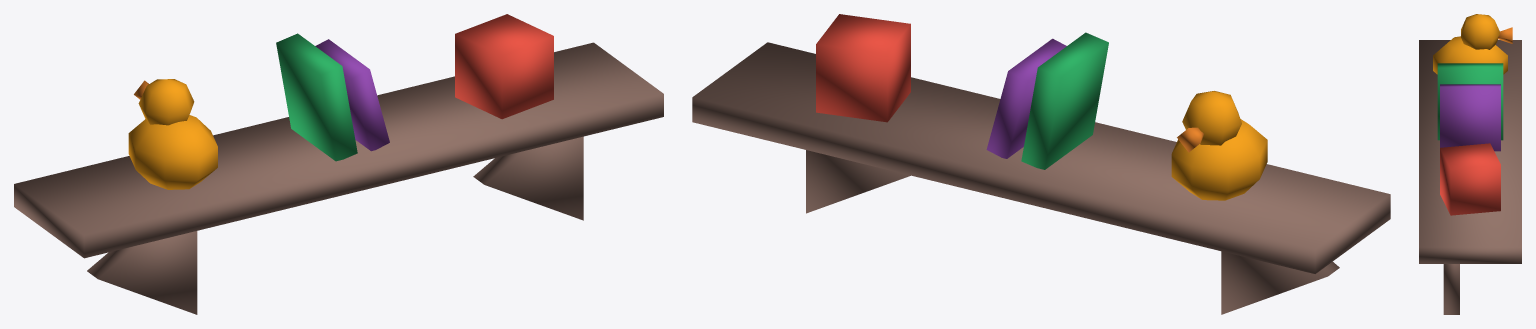
The model's file is repisa_juguetes.glb.
3 renders of one model, left to right at view 1: azimuth 30°, elevation 25°; view 2: azimuth 150°, elevation 25°; view 3: azimuth 270°, elevation 25°, orthographic. The views are drawn at different scales.
Parts seen in each view (by area): view 1: repisa_juguetes; view 2: repisa_juguetes; view 3: repisa_juguetes.
Boxes of the visible parts, left/top/right/bottom form: repisa_juguetes: left=14, top=14, right=663, bottom=314; repisa_juguetes: left=692, top=14, right=1390, bottom=314; repisa_juguetes: left=1419, top=14, right=1521, bottom=314.
Bounding box in the file's own units: 1.05 × 0.3789 × 0.22.
